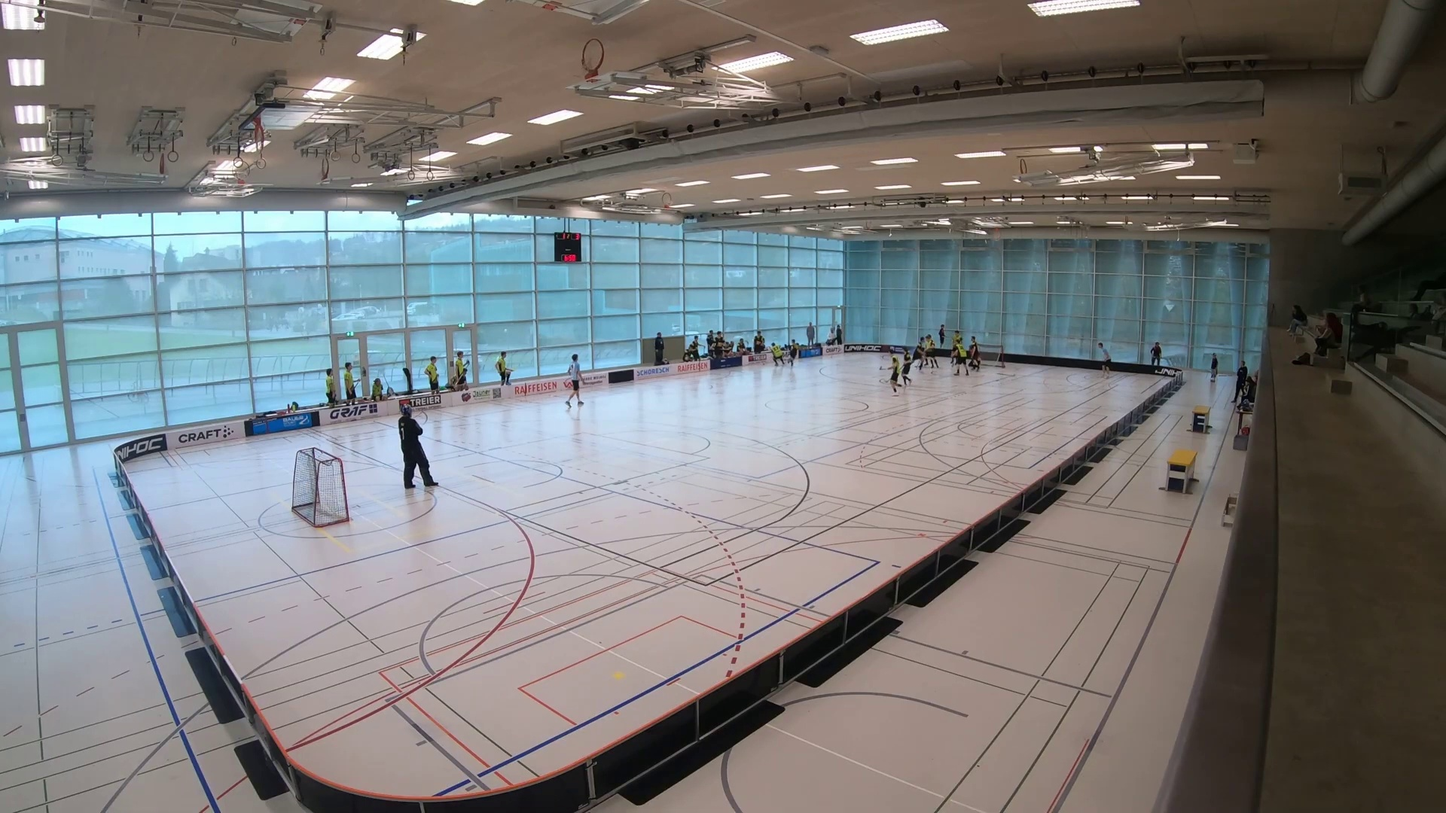Schiri: (564, 352, 587, 408), (1094, 340, 1114, 377)
ball: (761, 363, 767, 366)
goalkeeper: (394, 401, 439, 488), (965, 345, 982, 366)
player: (880, 347, 914, 386), (880, 350, 905, 400), (953, 341, 973, 378), (967, 335, 984, 372), (784, 338, 803, 368), (948, 327, 963, 363), (911, 337, 925, 374), (768, 341, 785, 366), (930, 335, 942, 368), (924, 336, 934, 369)
